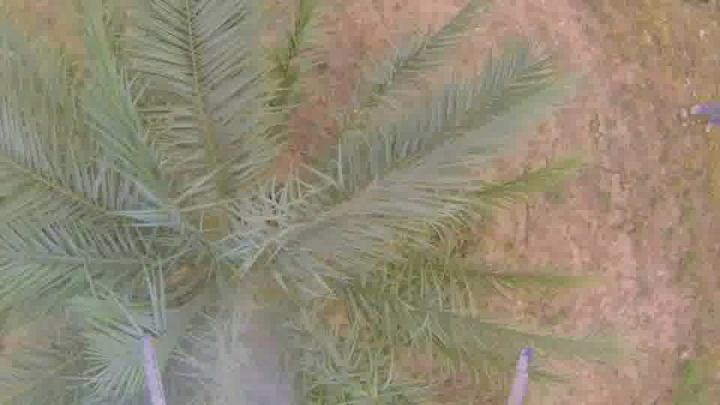Date-Palm-Crown: (19, 41, 434, 405)
